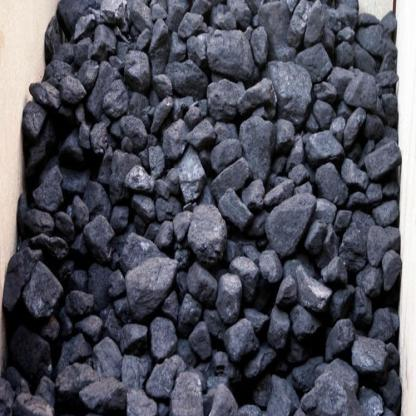Sedimentary_coal: (202, 30, 260, 75), (242, 111, 277, 182), (183, 200, 230, 252), (123, 252, 173, 300), (26, 260, 67, 313), (305, 130, 340, 157), (123, 0, 148, 34)
